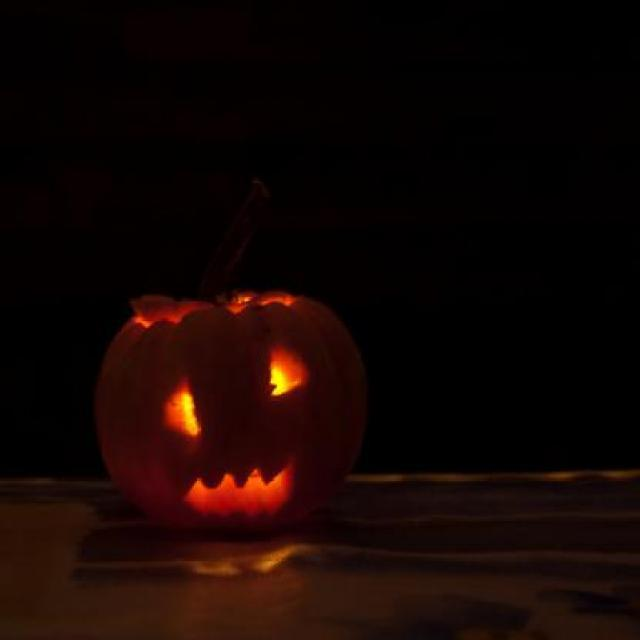Pumpkin: (94, 180, 371, 536)
